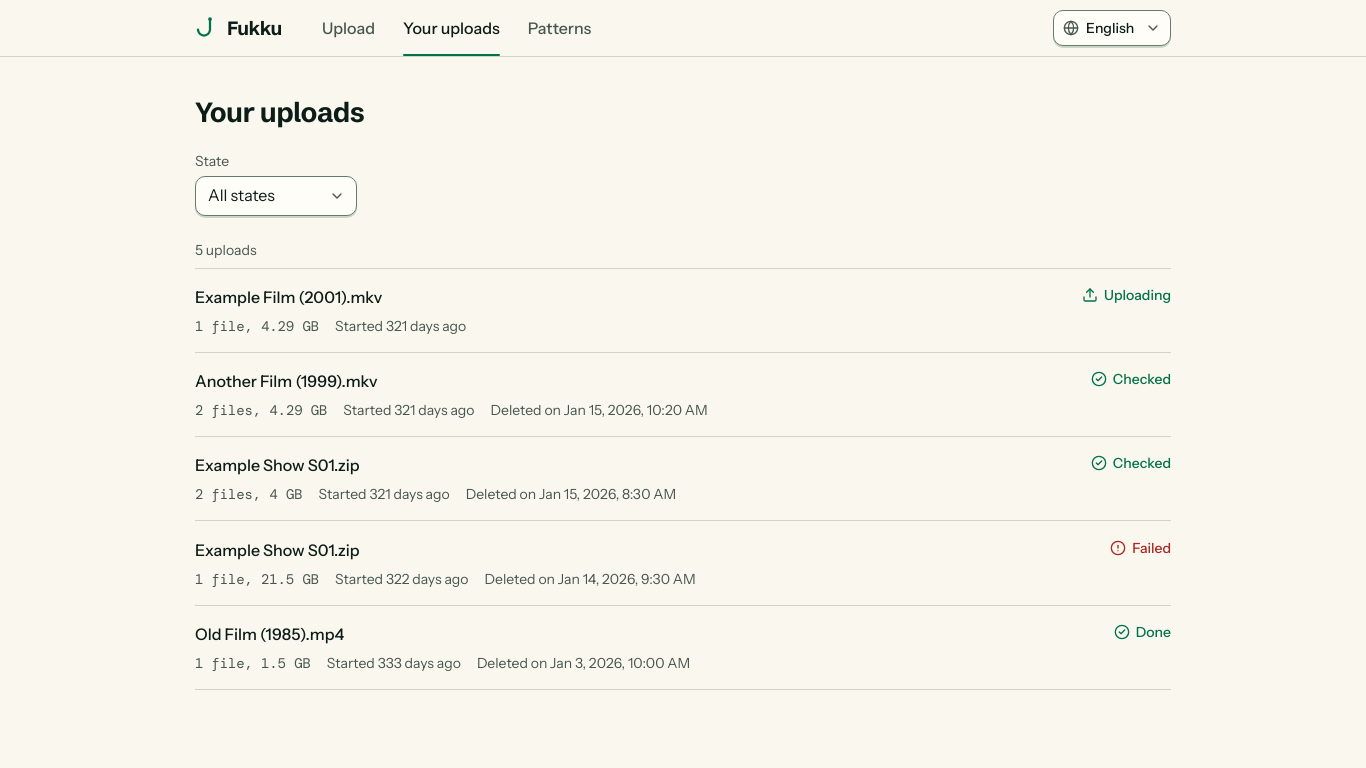
Test case: job list › a filter that matches nothing says so without sending the user to upload
Select "Importing" in the dropdown labelled "State" at (276,196), box [195, 176, 357, 216]
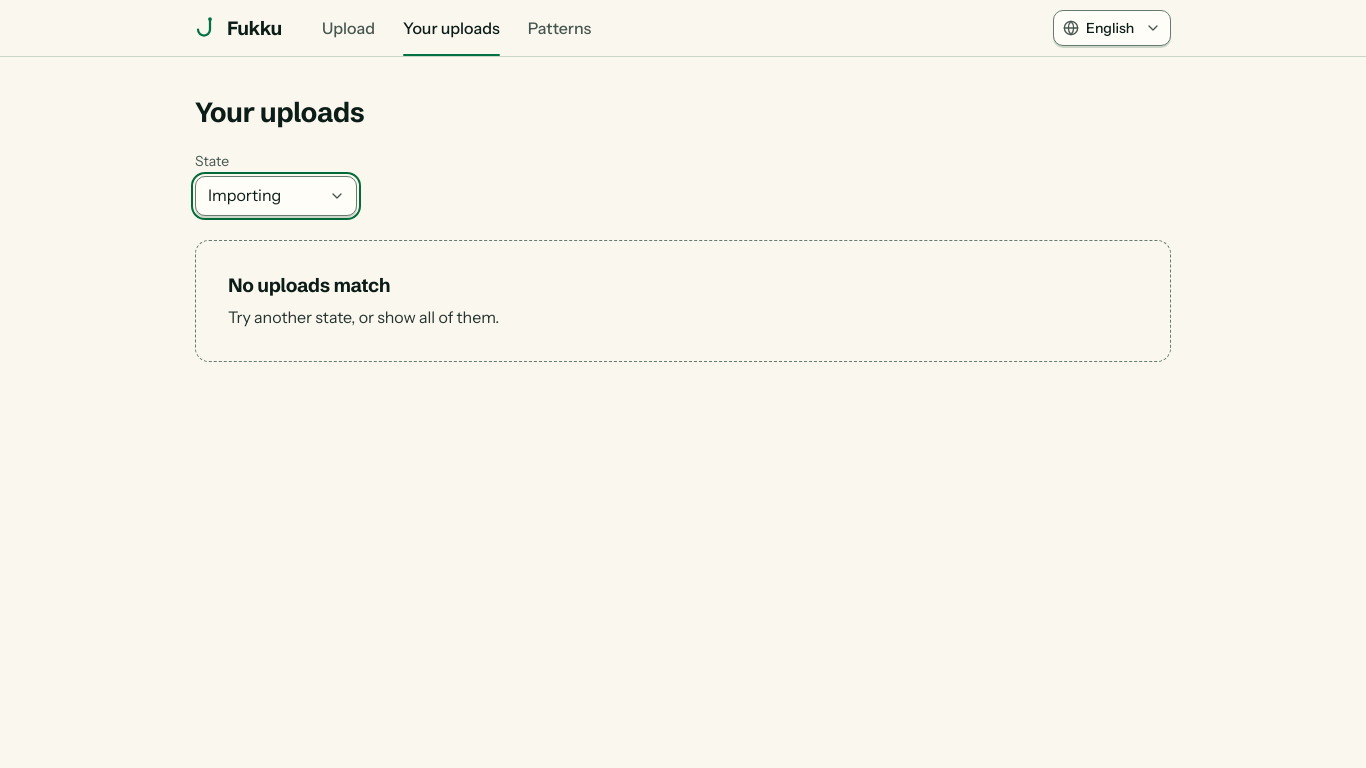
Result: the heading "No uploads match" is shown at [228, 273, 390, 297]
